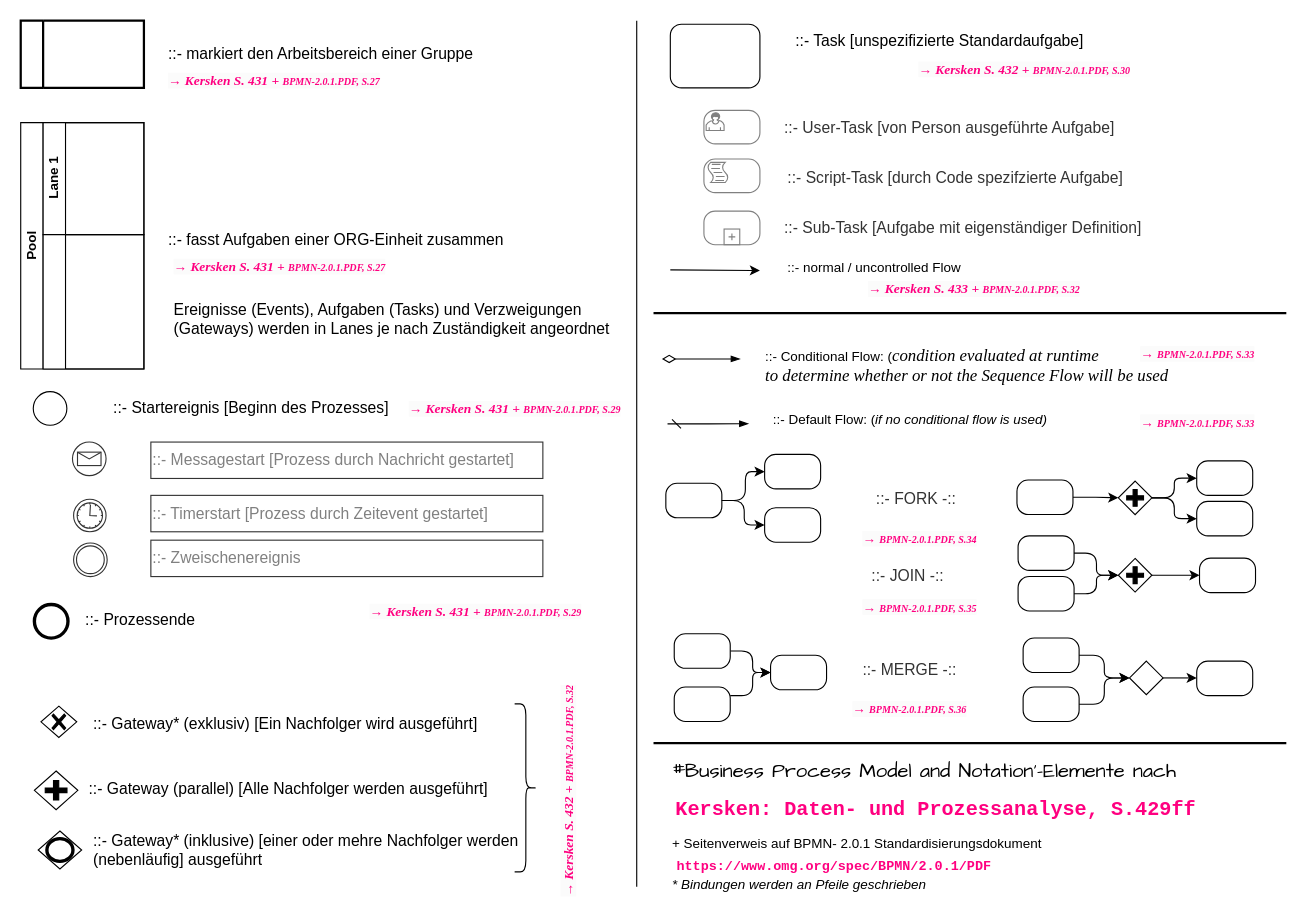
The diagram is 1306 pixels wide and 922 high, and some of its shapes have lost their labels. Each missing label, with the centre of its shape:
LANE: (x=81, y=53)
Lane 2: (x=93, y=301)
